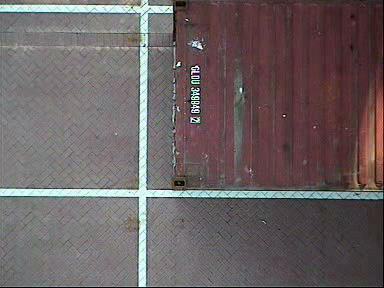groundmarker_2: (124, 70, 234, 137)
